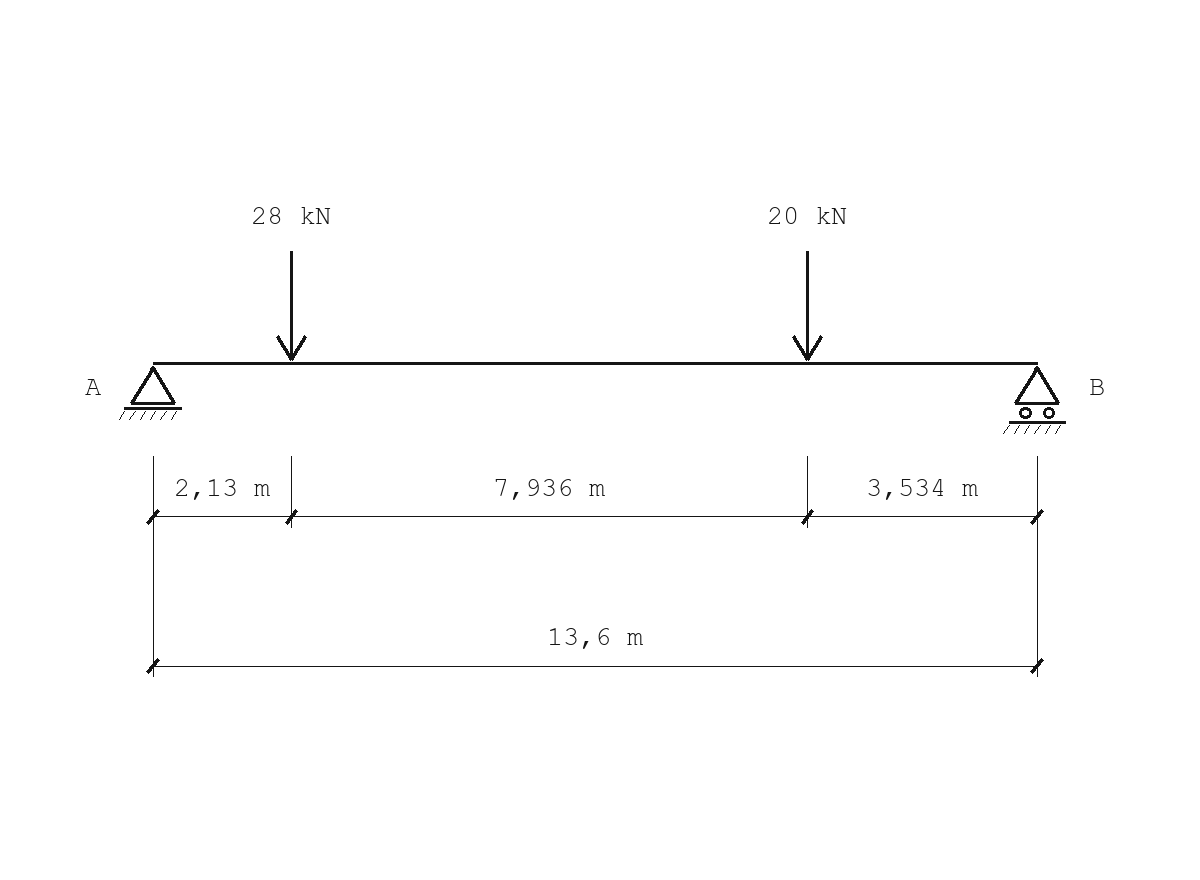pin_support: (119, 366, 182, 420)
point_load: (276, 251, 307, 361), (792, 251, 823, 361)
roller_support: (1003, 366, 1066, 434)
